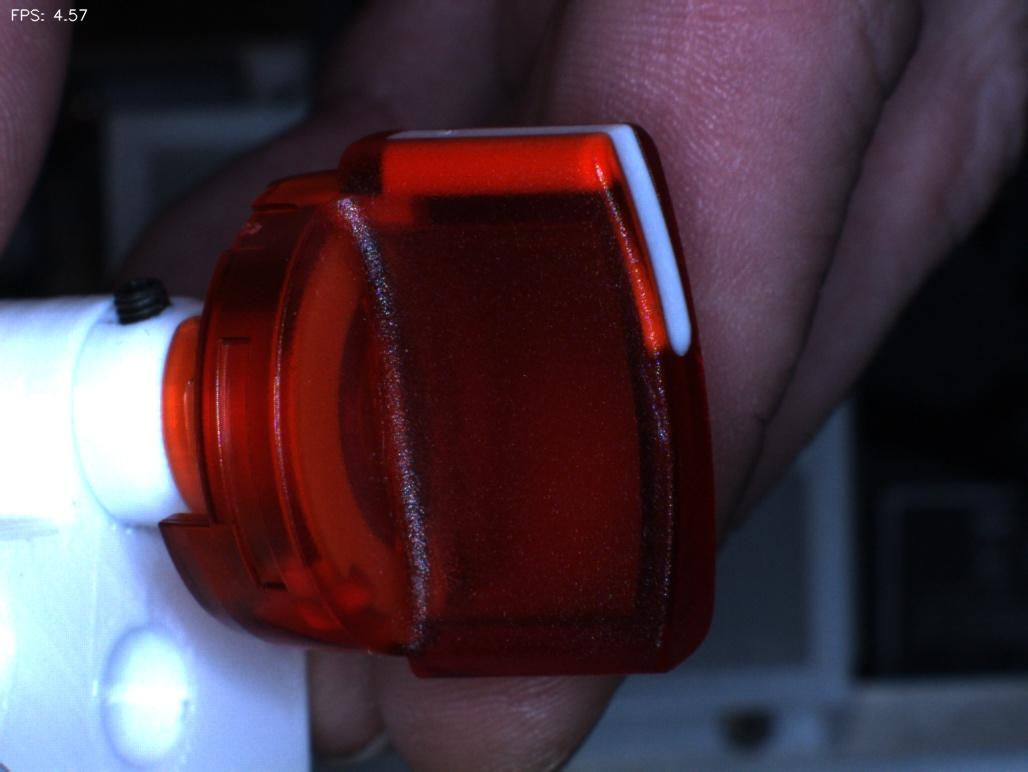Givrage: (609, 351, 675, 462)
